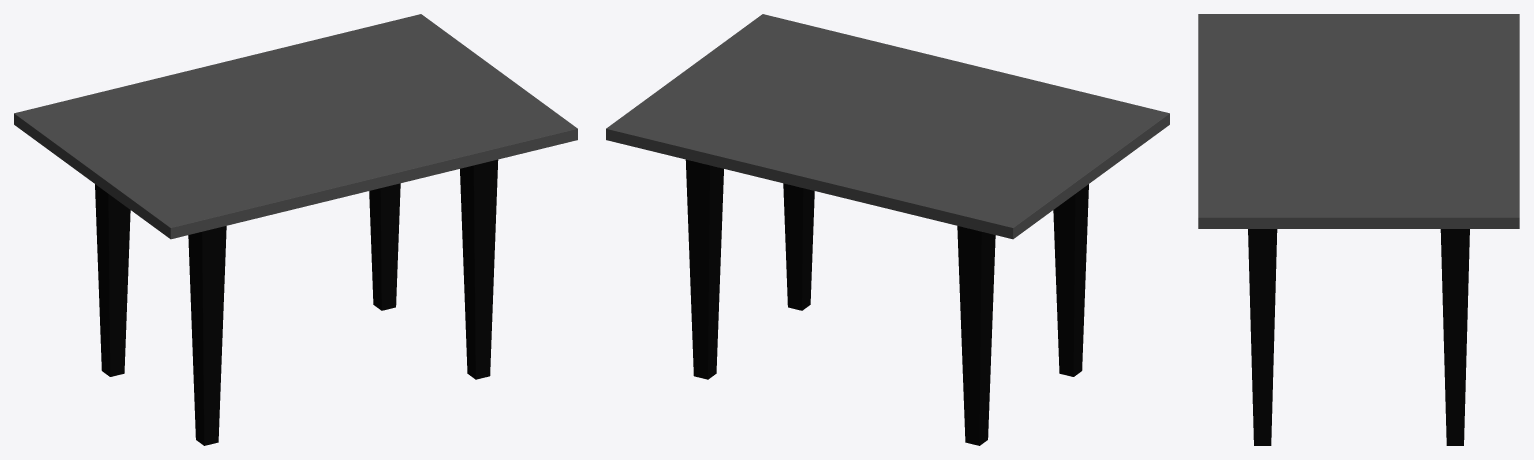
Rendered from mesaCocina.fbx.
3 views of the same model, side by side, from view 1: azimuth 30°, elevation 25°; view 2: azimuth 150°, elevation 25°; view 3: azimuth 270°, elevation 25° (orthographic). The views are drawn at different scales.
Parts seen in each view (by area): view 1: Table.001; view 2: Table.001; view 3: Table.001.
Part boxes in pixels (x1=…): Table.001: x1=14, y1=14, x2=577, y2=445; Table.001: x1=606, y1=14, x2=1169, y2=445; Table.001: x1=1198, y1=14, x2=1519, y2=445.
Bounding box in the file's own units: 150 × 88.93 × 100.
Materials: 1 (1 with a texture image).
